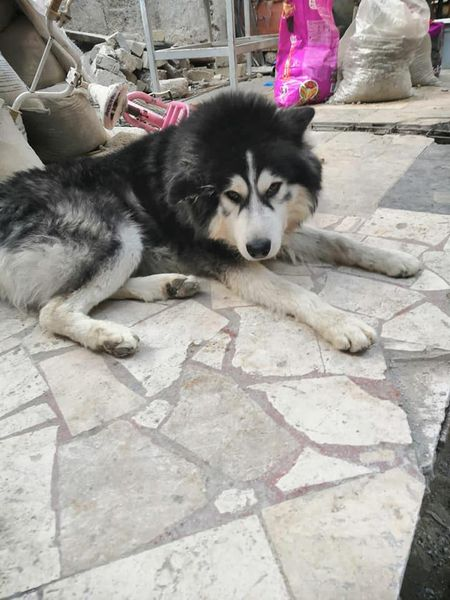dog: (9, 98, 435, 373)
